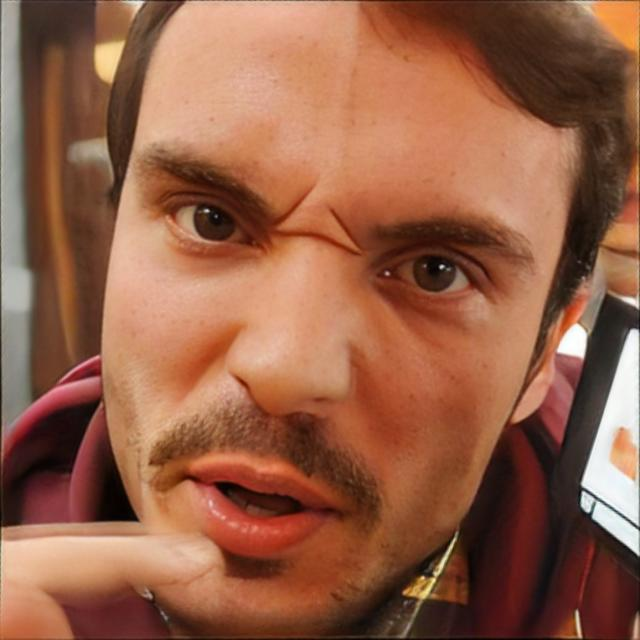anger: (104, 0, 532, 606)
